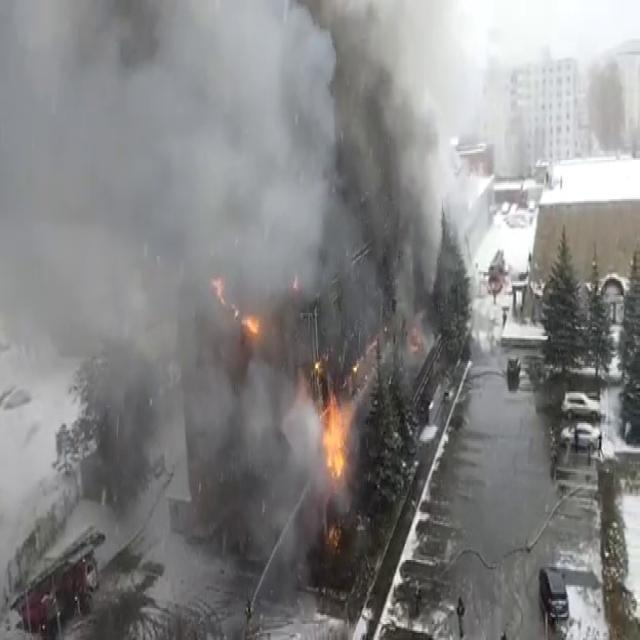Fire: (314, 365, 352, 490)
Smoke: (0, 0, 469, 565)
